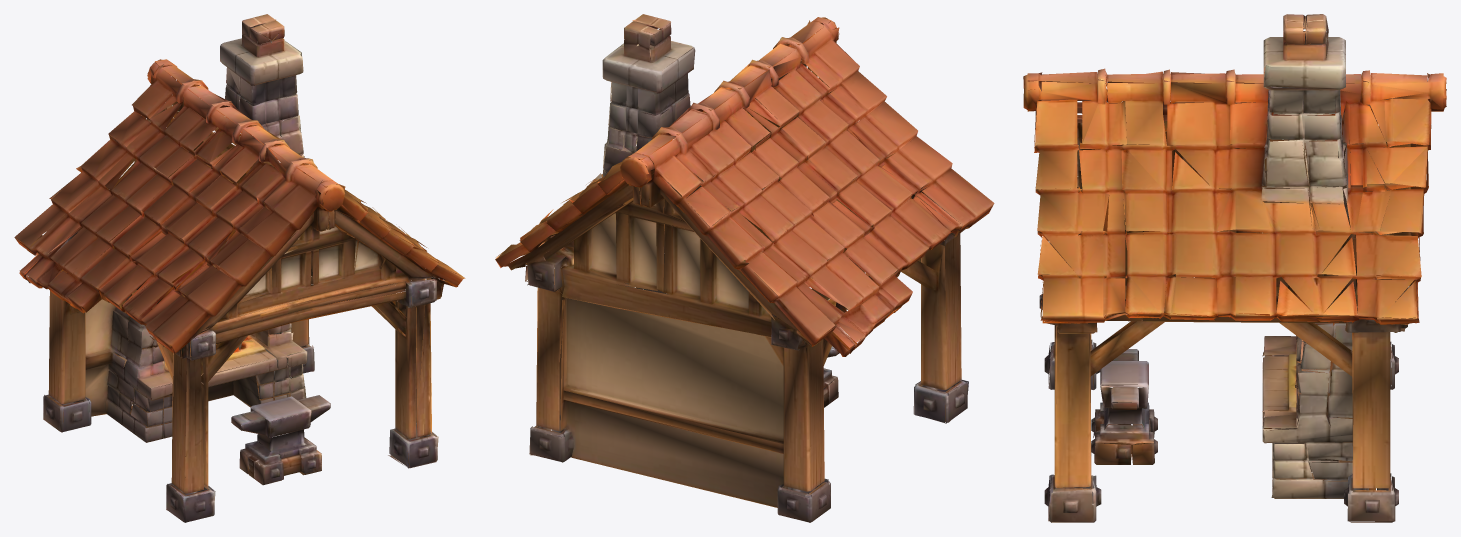
Rendered from forge.glb.
3 renders of one model, left to right at view 1: azimuth 30°, elevation 25°; view 2: azimuth 150°, elevation 25°; view 3: azimuth 270°, elevation 25°, orthographic. The views are drawn at different scales.
Visible parts, largest first — view 1: forge; view 2: forge; view 3: forge.
Boxes of the visible parts, left/top/right/bottom form: forge: left=14, top=14, right=465, bottom=522; forge: left=495, top=14, right=994, bottom=522; forge: left=1023, top=14, right=1446, bottom=522.
Bounding box in the file's own units: 4.08 × 4.8 × 3.99.
Materials: 1 (1 with a texture image).
